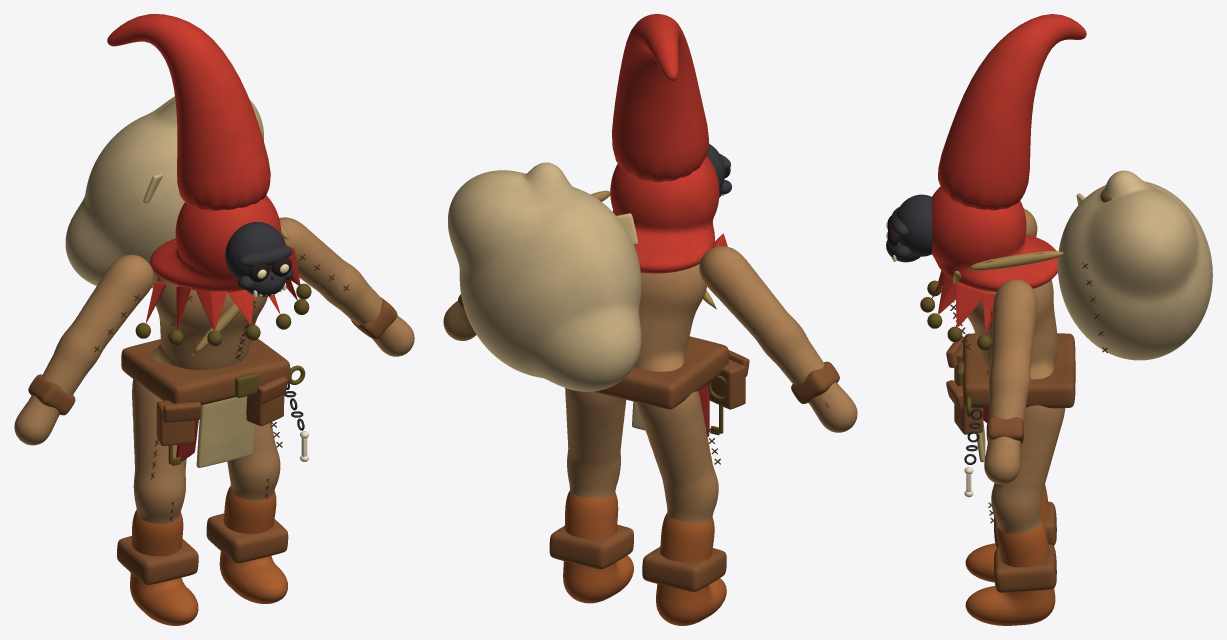
3 renders of one model, left to right at view 1: azimuth 30°, elevation 25°; view 2: azimuth 150°, elevation 25°; view 3: azimuth 270°, elevation 25°, orthographic. The views are drawn at different scales.
Visible parts, largest first — view 1: sack_thief; view 2: sack_thief; view 3: sack_thief.
Part boxes in pixels (x1=…): sack_thief: x1=14, y1=14, x2=414, y2=625; sack_thief: x1=443, y1=14, x2=857, y2=625; sack_thief: x1=886, y1=14, x2=1212, y2=625.
Size of the model in its own units: 1.41 by 2 by 1.04.
Materials: 1 (1 with a texture image).
